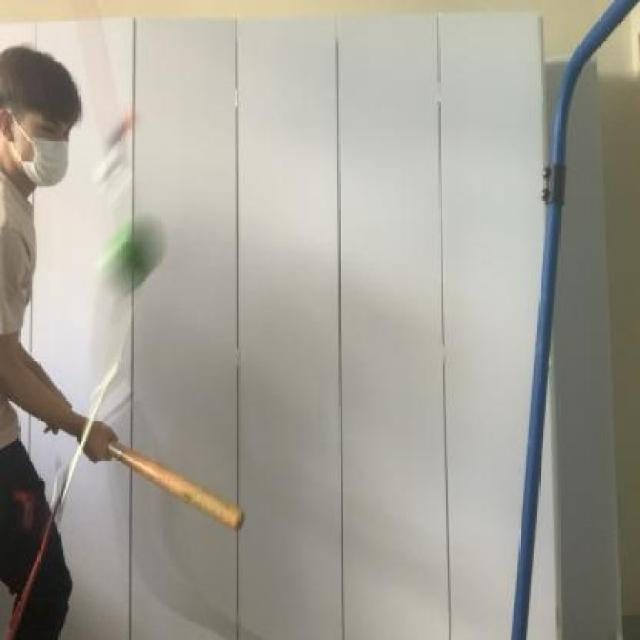baseball: (94, 202, 166, 306)
